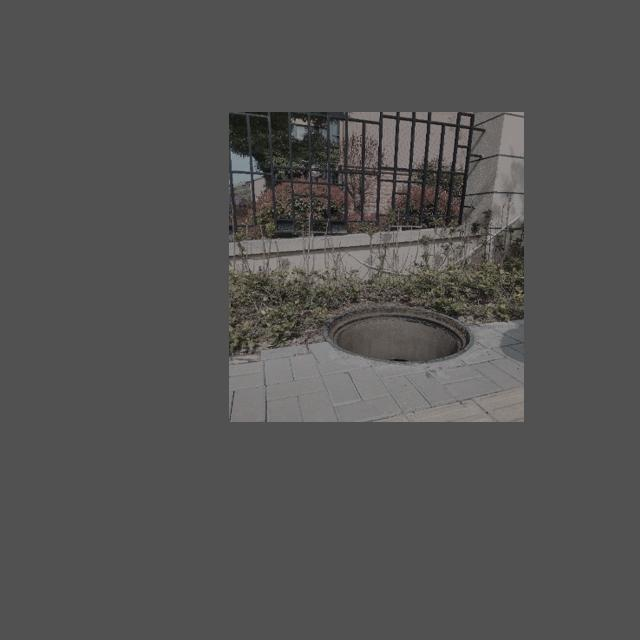lose: (326, 304, 475, 363)
